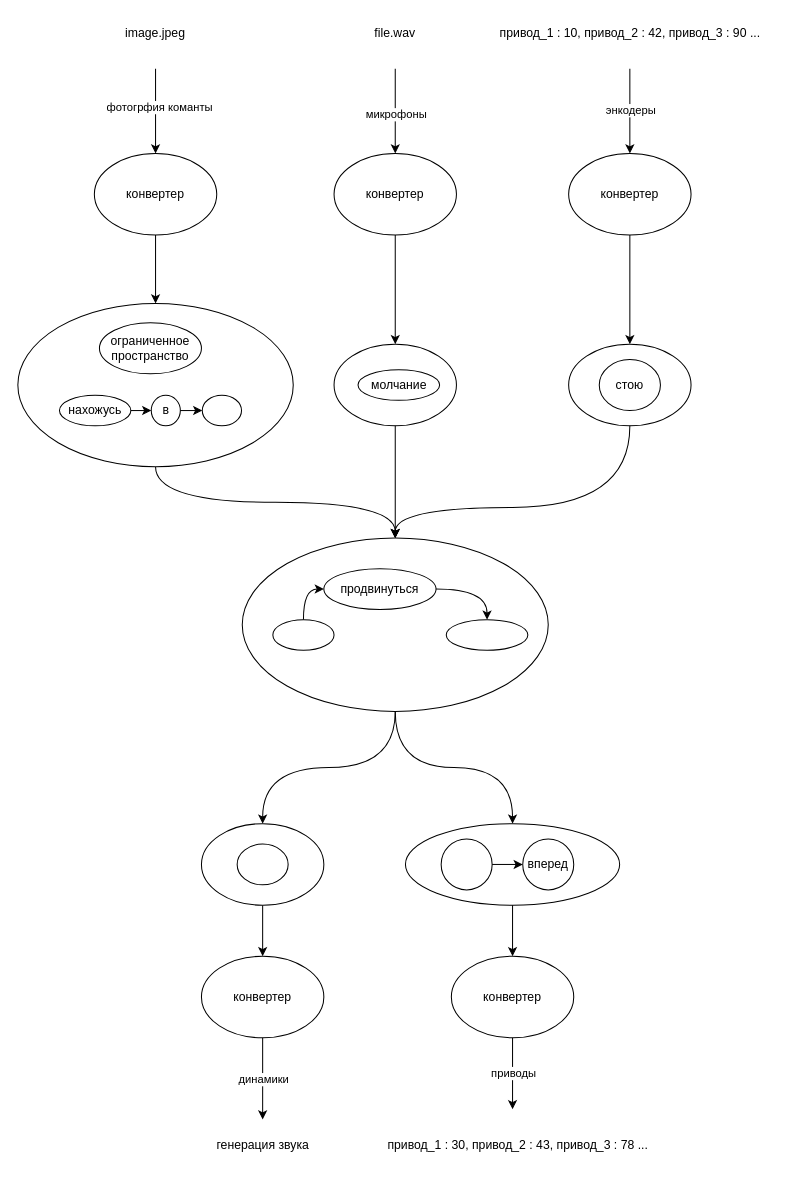
Some shapes in this 791 by 1177 pixel diagram are drawn without their labels. Here are the shapes that lost their labels. From the top down, the box of each, then its label:
(201, 394, 242, 426): центр
(272, 619, 334, 650): цель
(241, 537, 548, 711): ядро
(445, 619, 528, 650): дальше
(236, 843, 288, 885): молчу
(440, 838, 492, 890): шаг
